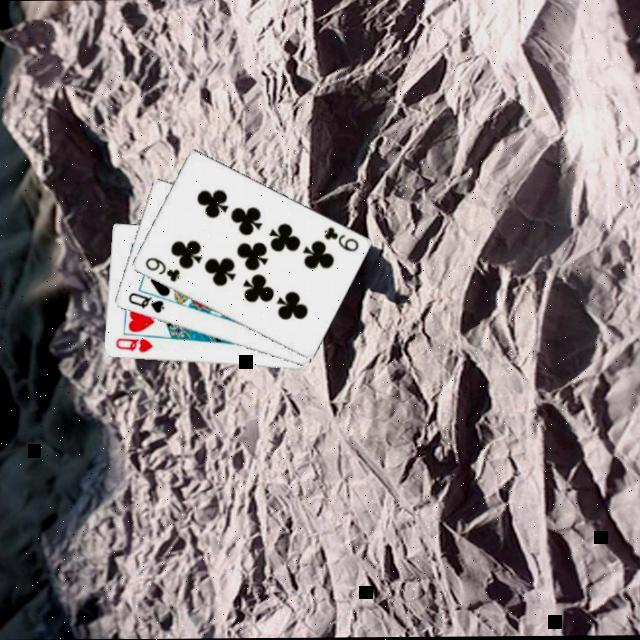9C: (142, 255, 182, 285), (320, 226, 360, 256)
QH: (111, 336, 155, 356)
QS: (124, 290, 166, 317)
